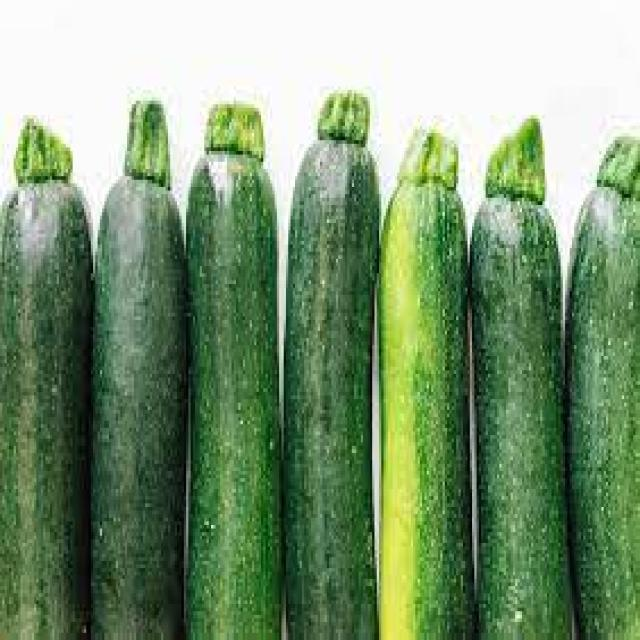Zucchini: (190, 108, 283, 632), (108, 93, 188, 640)
